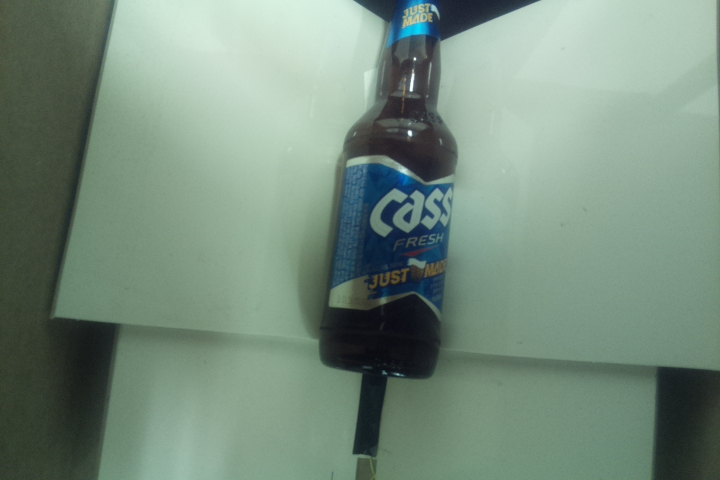makju: (318, 1, 460, 384)
